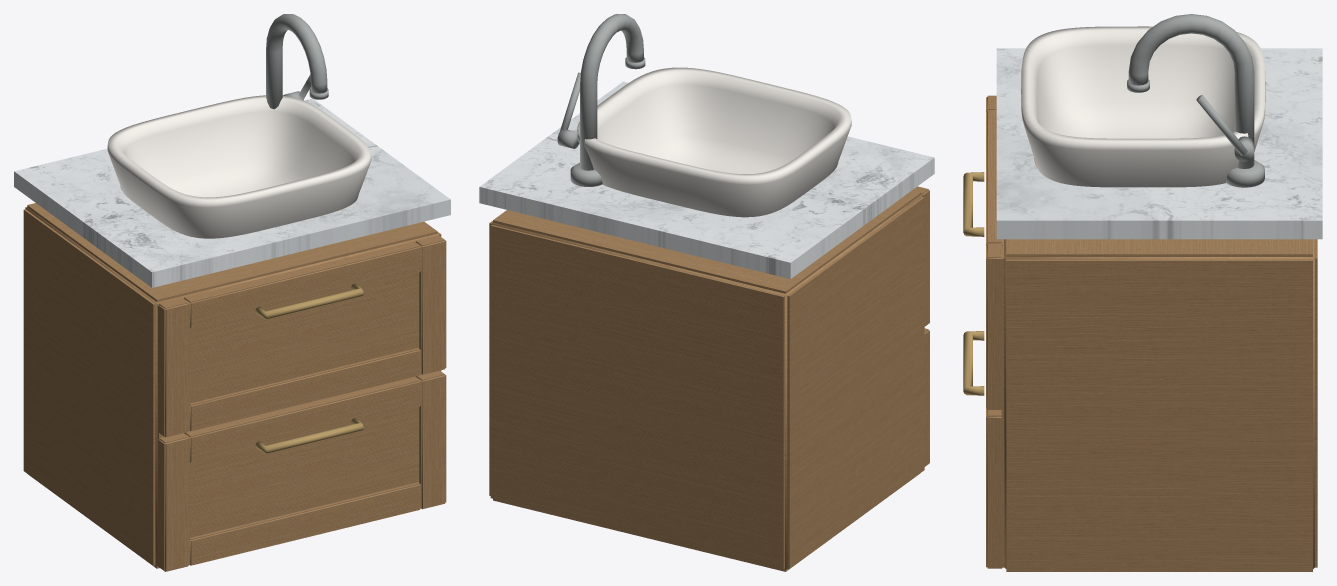
File: country.wall_vanity.gltf
The picture shows the model from 3 angles, left to right: view 1: azimuth 30°, elevation 25°; view 2: azimuth 150°, elevation 25°; view 3: azimuth 270°, elevation 25°; orthographic projection. The views are drawn at different scales.
Visible parts, largest first — view 1: country.wall_vanity.wall-hung-cabinet; view 2: country.wall_vanity.wall-hung-cabinet; view 3: country.wall_vanity.wall-hung-cabinet.
Boxes of the visible parts, box(x1,y1,x2,y2) form: country.wall_vanity.wall-hung-cabinet: box(14, 14, 450, 571); country.wall_vanity.wall-hung-cabinet: box(479, 14, 934, 571); country.wall_vanity.wall-hung-cabinet: box(963, 14, 1322, 571).
Size of the model in its own units: 0.5 by 0.7052 by 0.441.
Materials: 5 (2 with a texture image).
